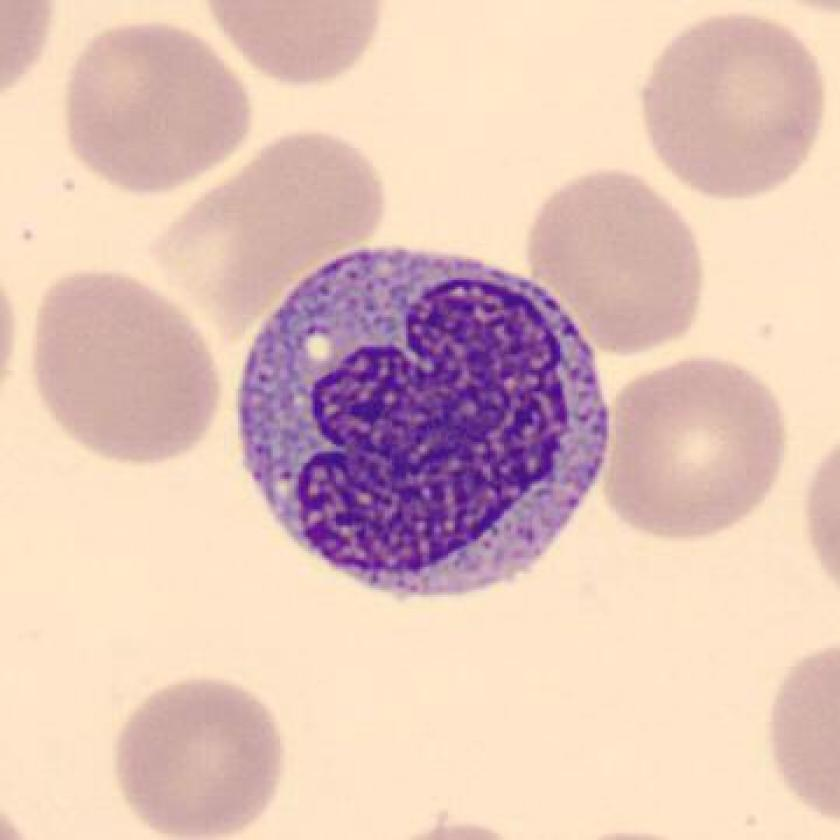monocyte: (223, 230, 629, 617)
